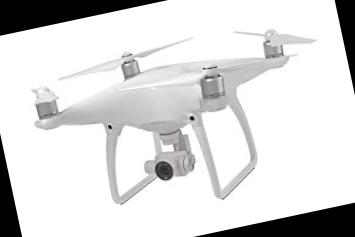drone: (9, 2, 342, 210)
